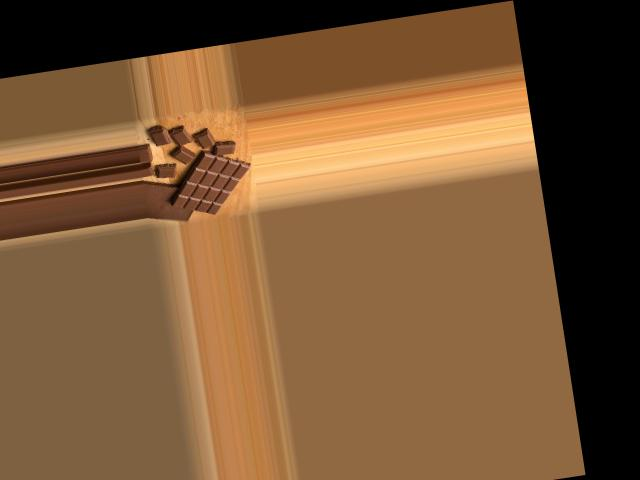chocolate: (163, 141, 254, 221)
